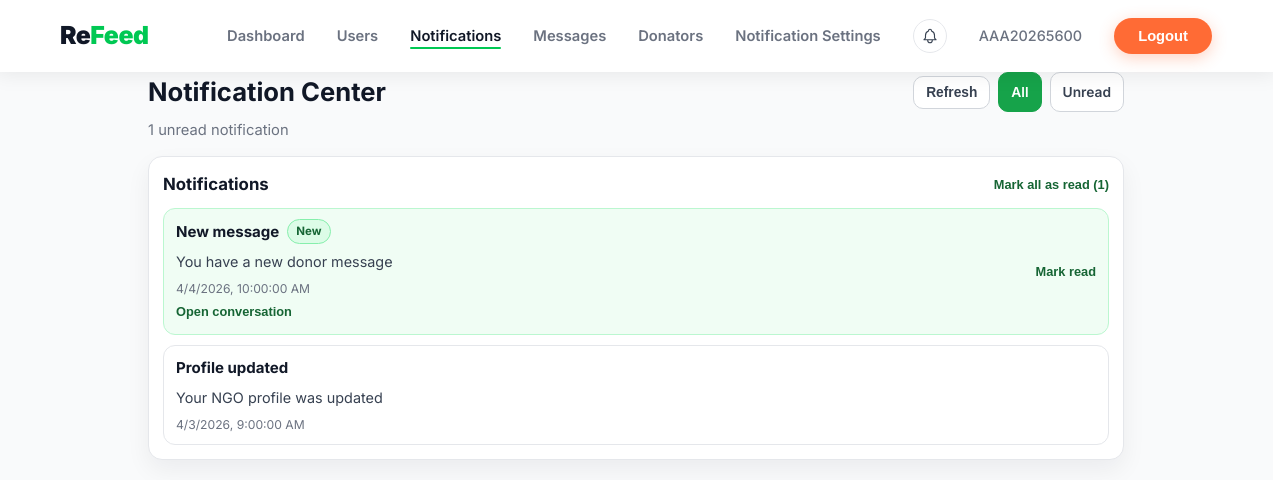
NGO Notifications - E2E Tests › should render notification center and mark all as read
Expected: the heading "Notification Center" is shown, top-left (148, 72), bottom-right (386, 113)
Expected: the text "1 unread notification" is shown, top-left (148, 121), bottom-right (289, 139)
Click the button "Mark all as read (1)": coordinates (1052, 185) top-left (994, 173), bottom-right (1109, 196)
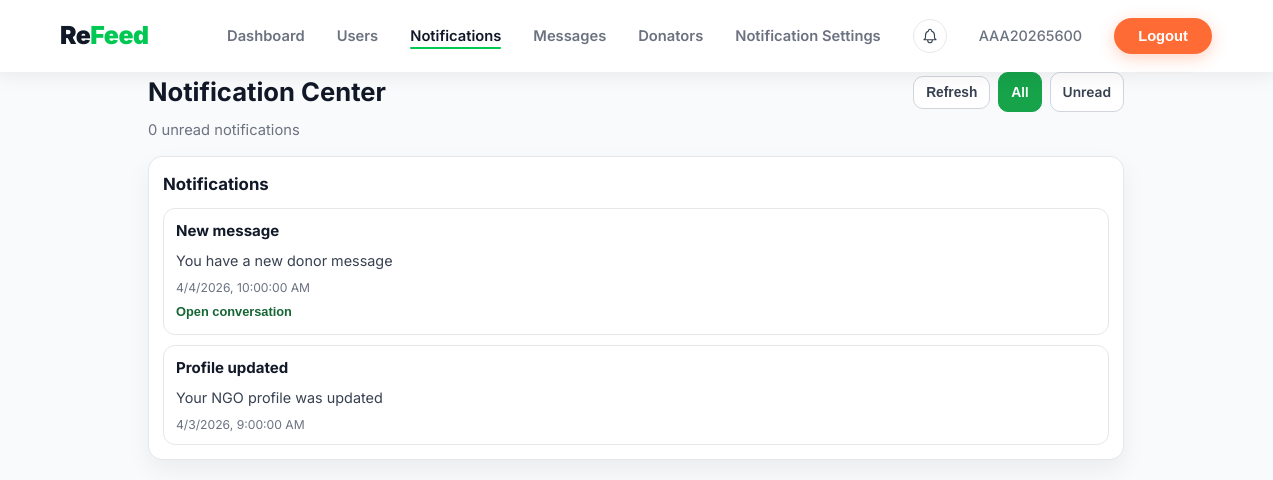
Expected: the text "0 unread notifications" is shown, top-left (148, 121), bottom-right (300, 139)
